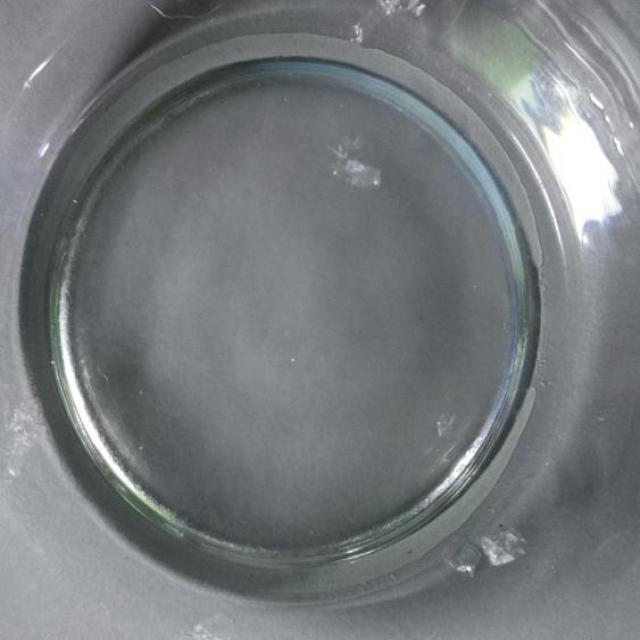fiber: (347, 2, 428, 46), (324, 134, 385, 192), (482, 526, 534, 567), (442, 531, 487, 578), (435, 408, 461, 439)
